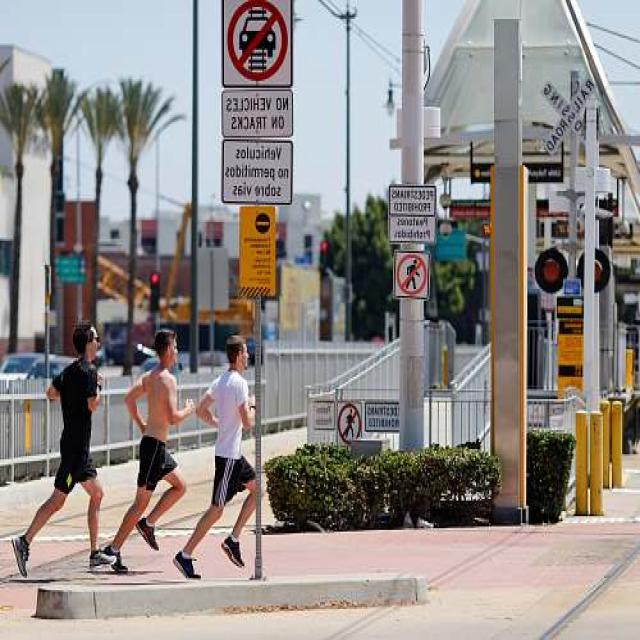running: (9, 320, 110, 581), (110, 326, 194, 578), (193, 337, 254, 585)
